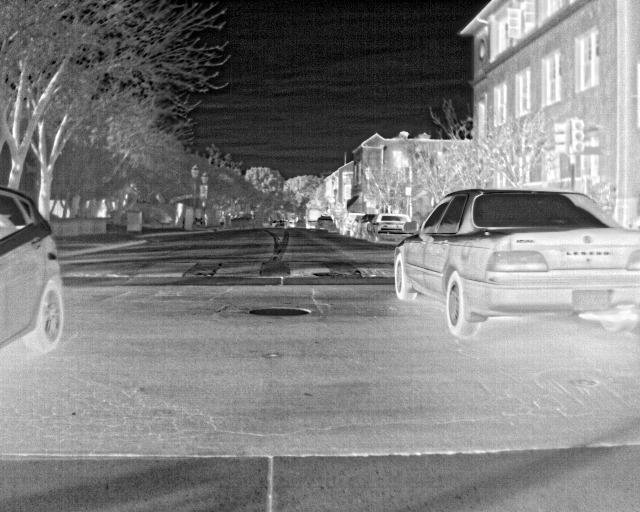car: (394, 188, 639, 336), (0, 185, 66, 354), (366, 213, 415, 242), (339, 213, 365, 235), (357, 213, 378, 239), (350, 214, 363, 237), (315, 216, 334, 229)
light: (571, 119, 585, 152), (554, 123, 566, 154)
sign: (127, 212, 142, 231), (200, 185, 208, 198), (405, 187, 412, 196)
